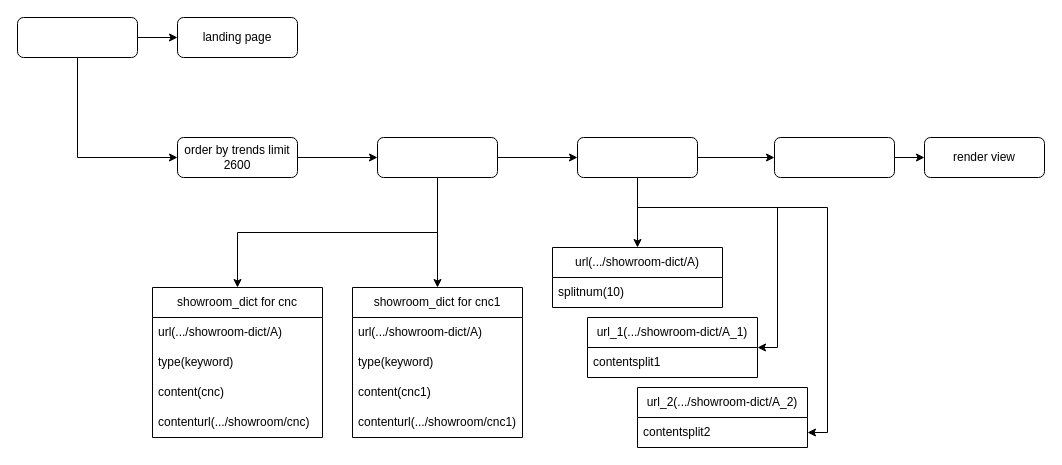
Some shapes in this 1062 by 465 pixel diagram are drawn without their labels. The shapes that lost their labels are listed below. From the top down, each one's centre as x and y in pixels, then its label:
the point at 77,37: keywords
the point at 437,157: generate dict url record
the point at 637,157: write cache
the point at 834,157: read cache
